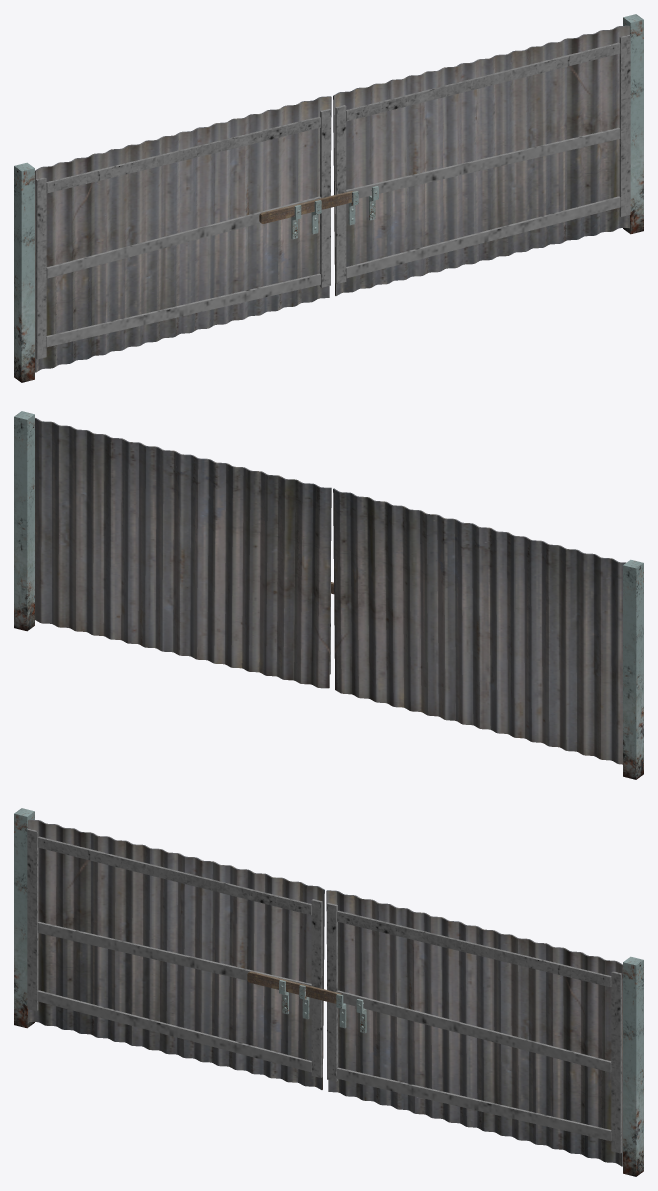
The model's file is Gate.fbx.
The picture shows the model from 3 angles, top to bottom: view 1: azimuth 30°, elevation 25°; view 2: azimuth 150°, elevation 25°; view 3: azimuth 330°, elevation 25°; orthographic projection.
Parts seen in each view (by area): view 1: DoorLeft, DoorRight, DoorPost_L, DoorPost_R; view 2: DoorRight, DoorLeft, DoorPost_L, DoorPost_R; view 3: DoorLeft, DoorRight, DoorPost_R, DoorPost_L.
Boxes of the visible parts, x1,y1,x2,y2 form: DoorLeft: (35, 96, 352, 372); DoorRight: (333, 25, 630, 295); DoorPost_L: (14, 162, 34, 382); DoorPost_R: (623, 14, 643, 234); DoorRight: (35, 418, 331, 688); DoorLeft: (331, 488, 625, 764); DoorPost_L: (623, 559, 643, 779); DoorPost_R: (14, 411, 34, 631); DoorLeft: (27, 819, 341, 1089); DoorRight: (326, 890, 622, 1166); DoorPost_R: (623, 956, 643, 1176); DoorPost_L: (14, 808, 34, 1028).
Size of the model in its own units: 6.79 by 2.2 by 0.2372.
